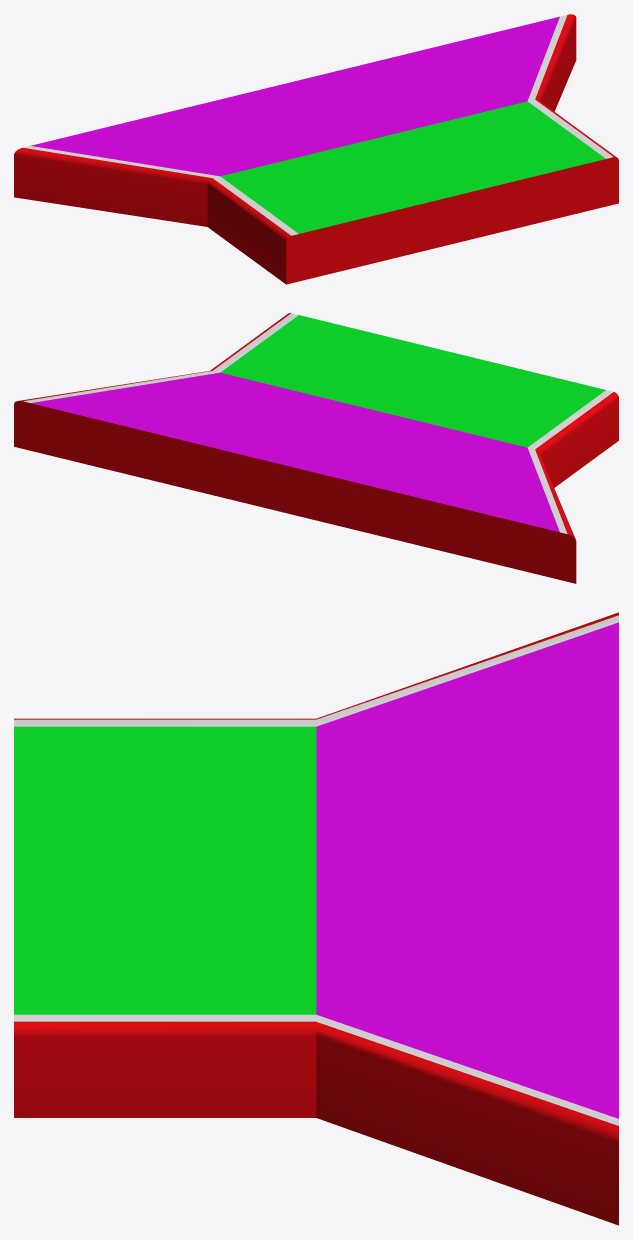
The model's file is OrtaYoldan_GenisYola_Gecis.fbx.
3 views of the same model, one above another, from view 1: azimuth 30°, elevation 25°; view 2: azimuth 150°, elevation 25°; view 3: azimuth 270°, elevation 25° (orthographic). The views are drawn at different scales.
Visible parts, largest first — view 1: OrtaYoldan_GenisYola_Gecis; view 2: OrtaYoldan_GenisYola_Gecis; view 3: OrtaYoldan_GenisYola_Gecis.
Part boxes in pixels (<box>): OrtaYoldan_GenisYola_Gecis: <box>14,14,618,284</box>; OrtaYoldan_GenisYola_Gecis: <box>14,313,618,583</box>; OrtaYoldan_GenisYola_Gecis: <box>14,612,618,1225</box>.
Bounding box in the file's own units: 1856 × 150 × 900.
